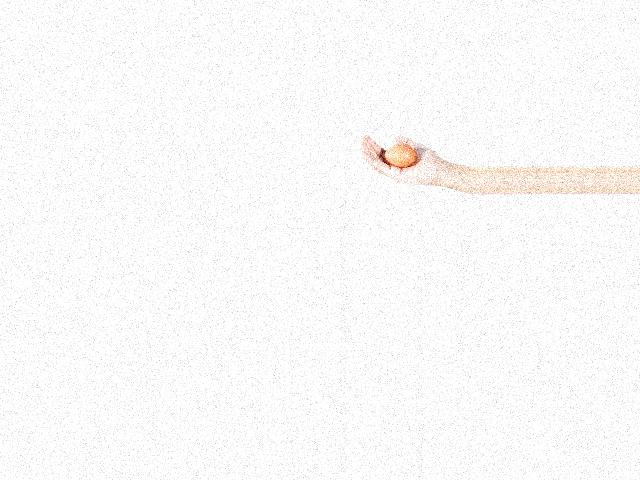egg: (385, 144, 415, 167)
